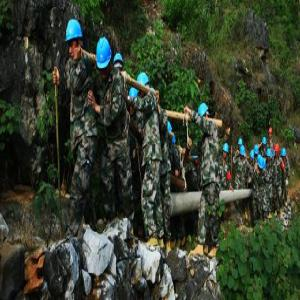blue: (64, 18, 83, 60), (97, 37, 111, 77), (199, 102, 210, 129), (113, 50, 124, 75), (223, 143, 230, 162), (250, 150, 255, 166), (241, 147, 246, 161), (263, 135, 268, 149), (267, 149, 271, 164)
red: (275, 143, 281, 159), (269, 127, 273, 140)
